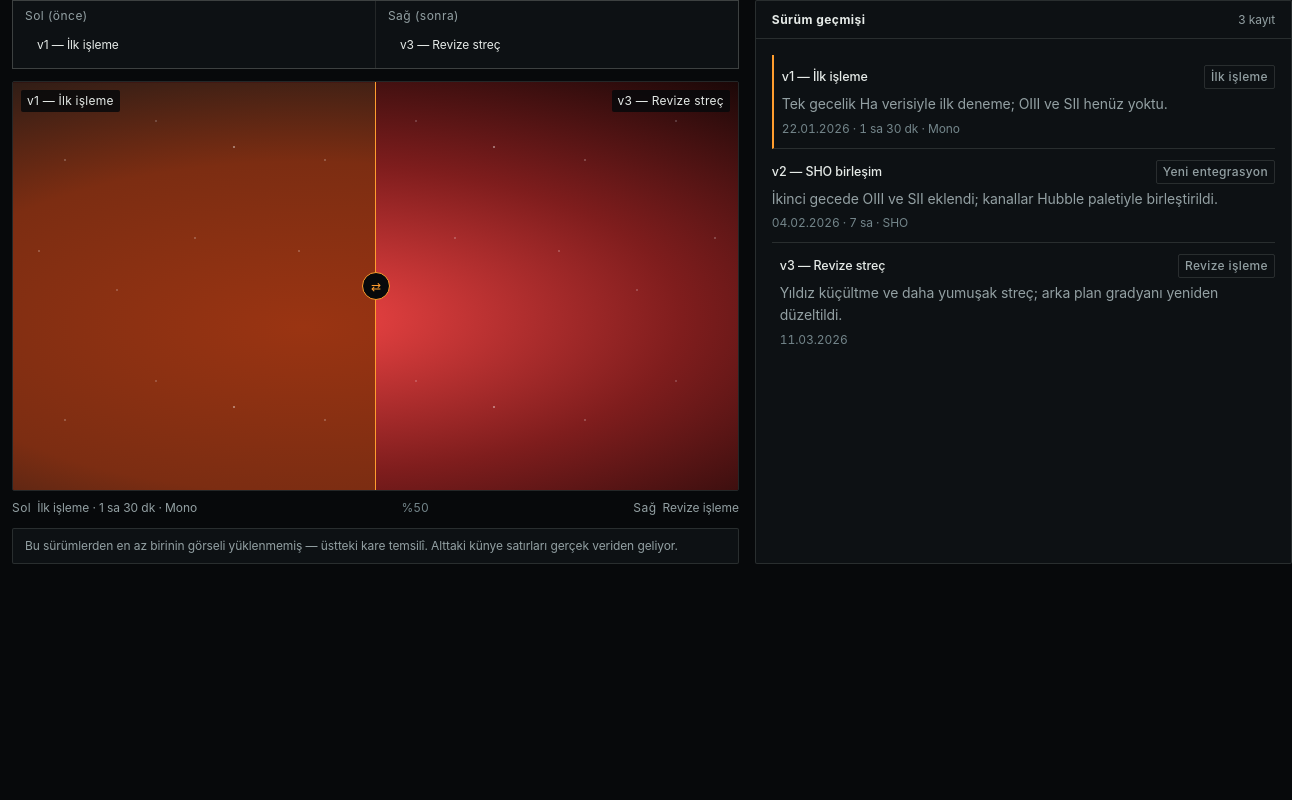
Test: sürüm geçmişi › iki tarafta aynı sürüm seçilirse sürgü yerine uyarı gösterir
The width and height of the screenshot is (1292, 800).
Select "v1 — İlk işleme" in the dropdown labelled "Sağ (sonra)" at (557, 44), box [388,24,726,64]
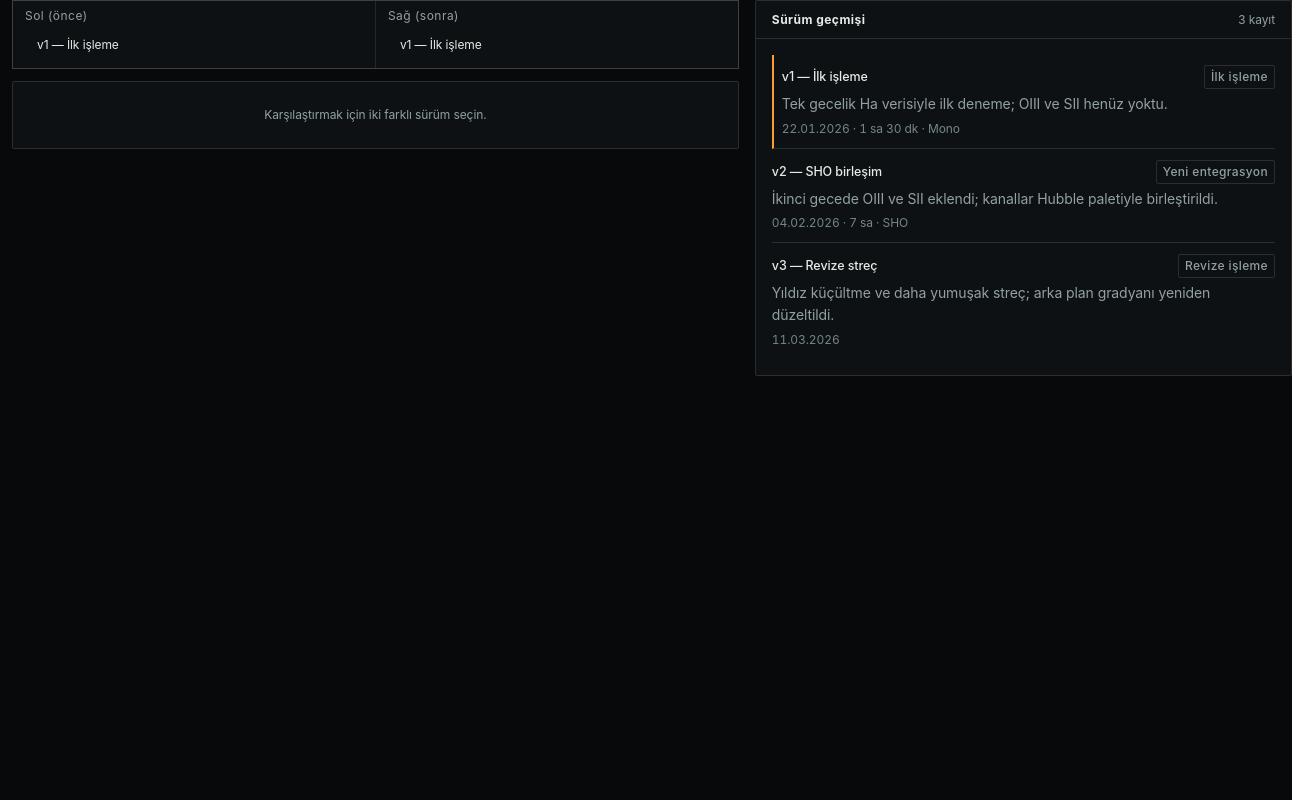
Check: the text "Karşılaştırmak için iki farklı sürüm seçin." is shown, box [12,81,739,149]
